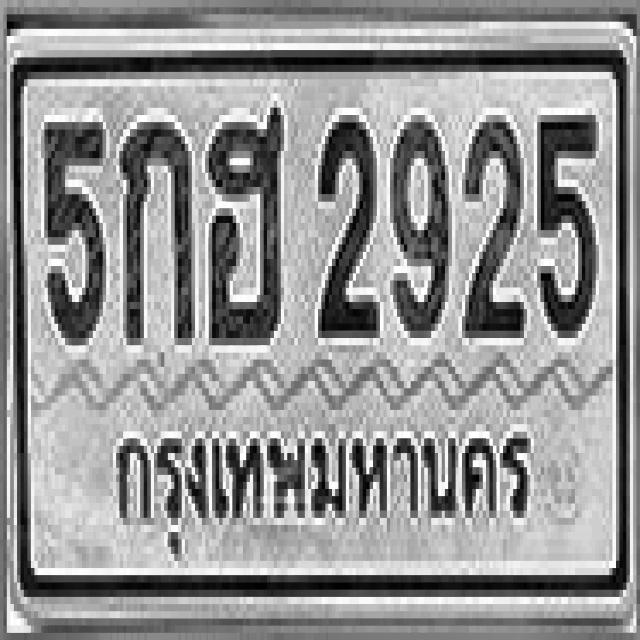license-plate: (9, 27, 632, 623)
